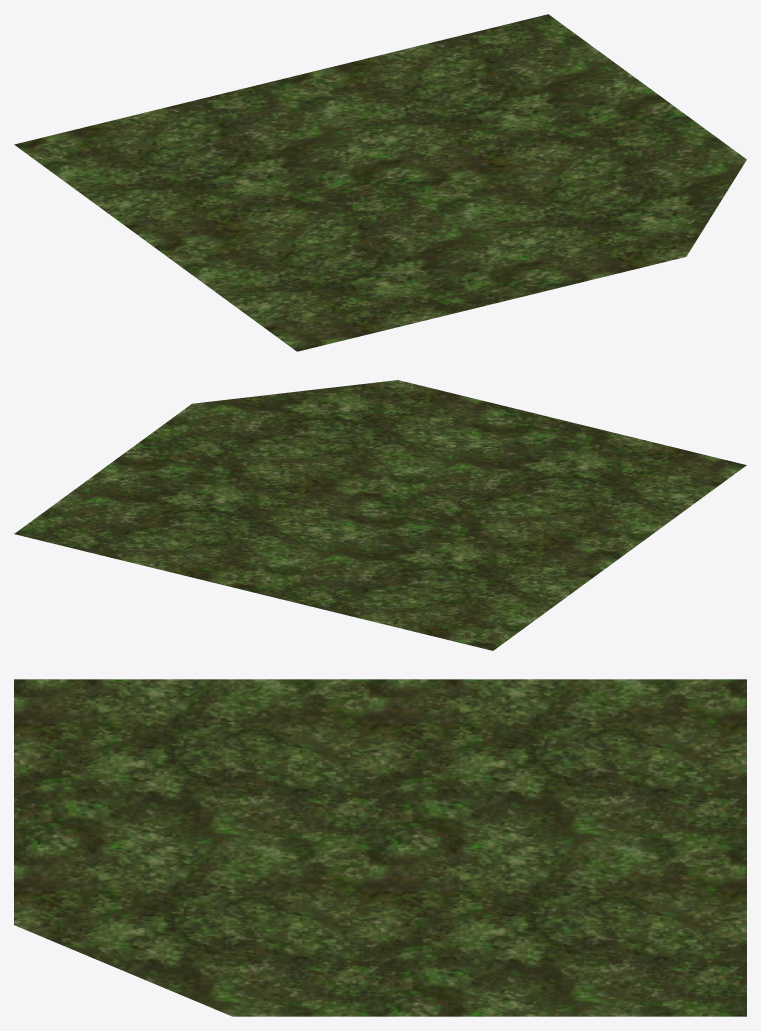
File: OVERHILL_A_01_PLANE23.fbx
3 renders of one model, top to bottom at view 1: azimuth 30°, elevation 25°; view 2: azimuth 150°, elevation 25°; view 3: azimuth 270°, elevation 25°, orthographic. The views are drawn at different scales.
Parts seen in each view (by area): view 1: OVERHILL_A_01_PLANE23; view 2: OVERHILL_A_01_PLANE23; view 3: OVERHILL_A_01_PLANE23.
Part boxes in pixels (x1,y1,x2,y2): OVERHILL_A_01_PLANE23: (14,14,746,351); OVERHILL_A_01_PLANE23: (14,380,746,650); OVERHILL_A_01_PLANE23: (14,679,746,1016).
Size of the model in its own units: 72967 by 0.0231 by 66957.
Materials: 1 (1 with a texture image).
